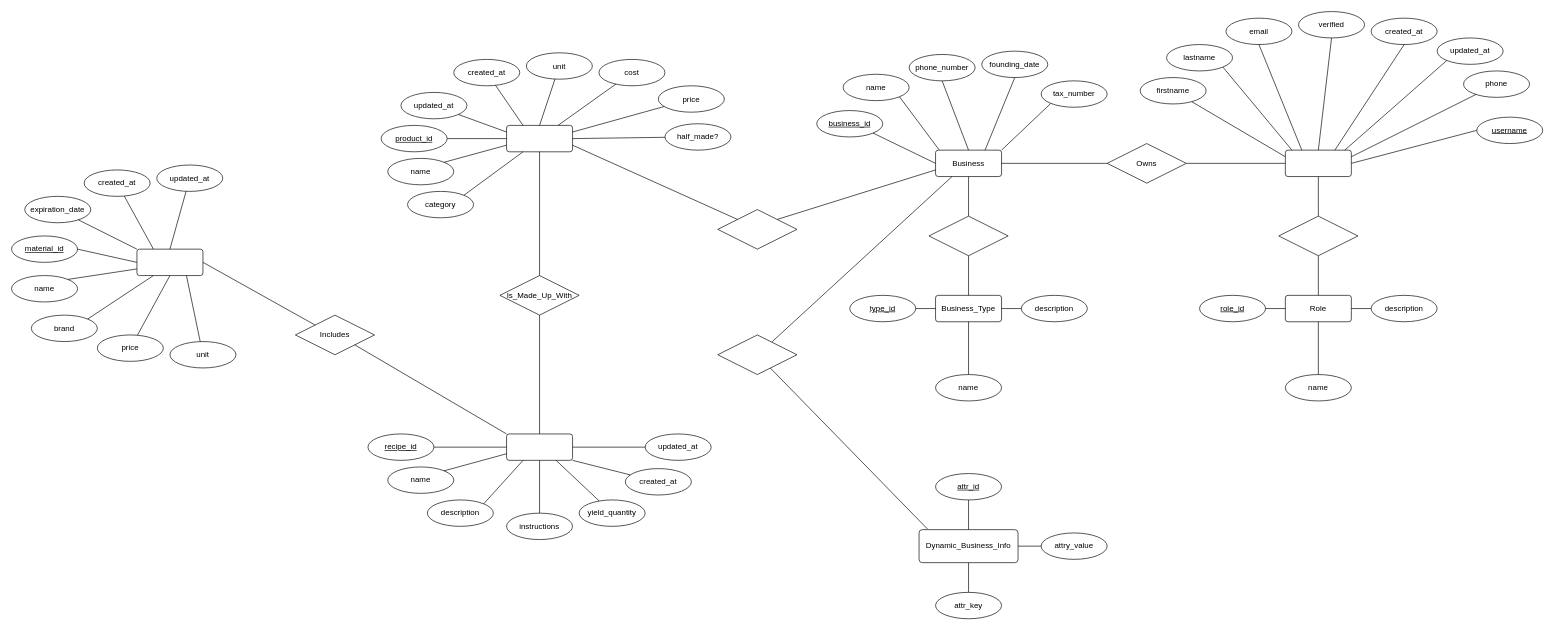
Some shapes in this 1554 by 630 pixel diagram are drawn without their labels. The shapes that lost their labels are listed below. From the top down, each one's centre as x and y in pixels, then its label:
the point at 539,138: Product
the point at 1318,163: User
the point at 757,229: Manufactures
the point at 968,235: Has_Type
the point at 1318,235: Has_Role
the point at 169,262: Raw_Material
the point at 757,354: Has_Dynamic_Info
the point at 539,446: Recipe
